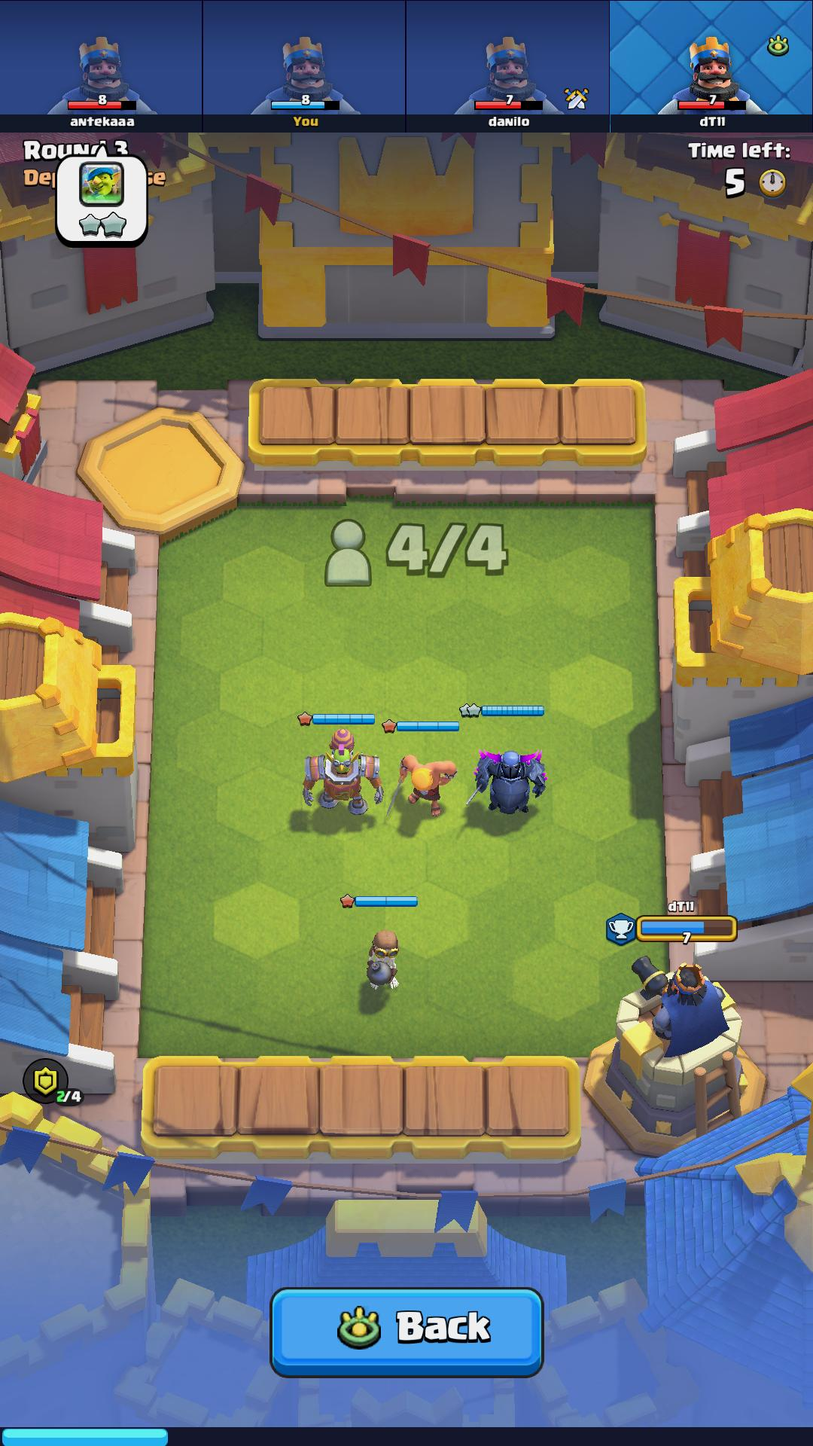barbarian: (386, 743, 461, 818)
bomber: (356, 917, 409, 1000)
machine: (289, 723, 387, 820)
pekka: (474, 741, 551, 812)
